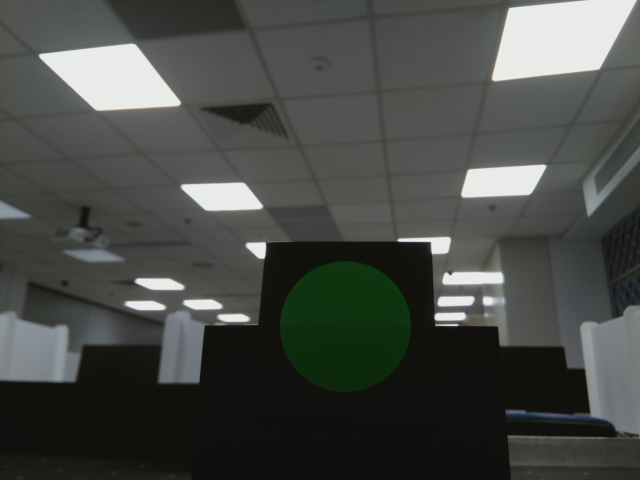go: (268, 255, 417, 392)
